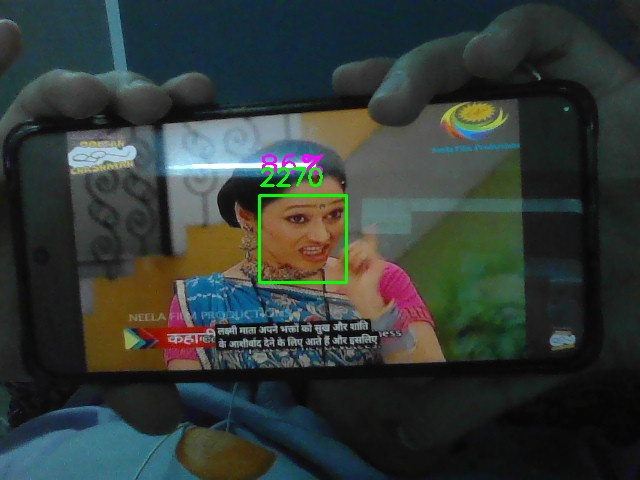fake: (259, 195, 347, 283)
